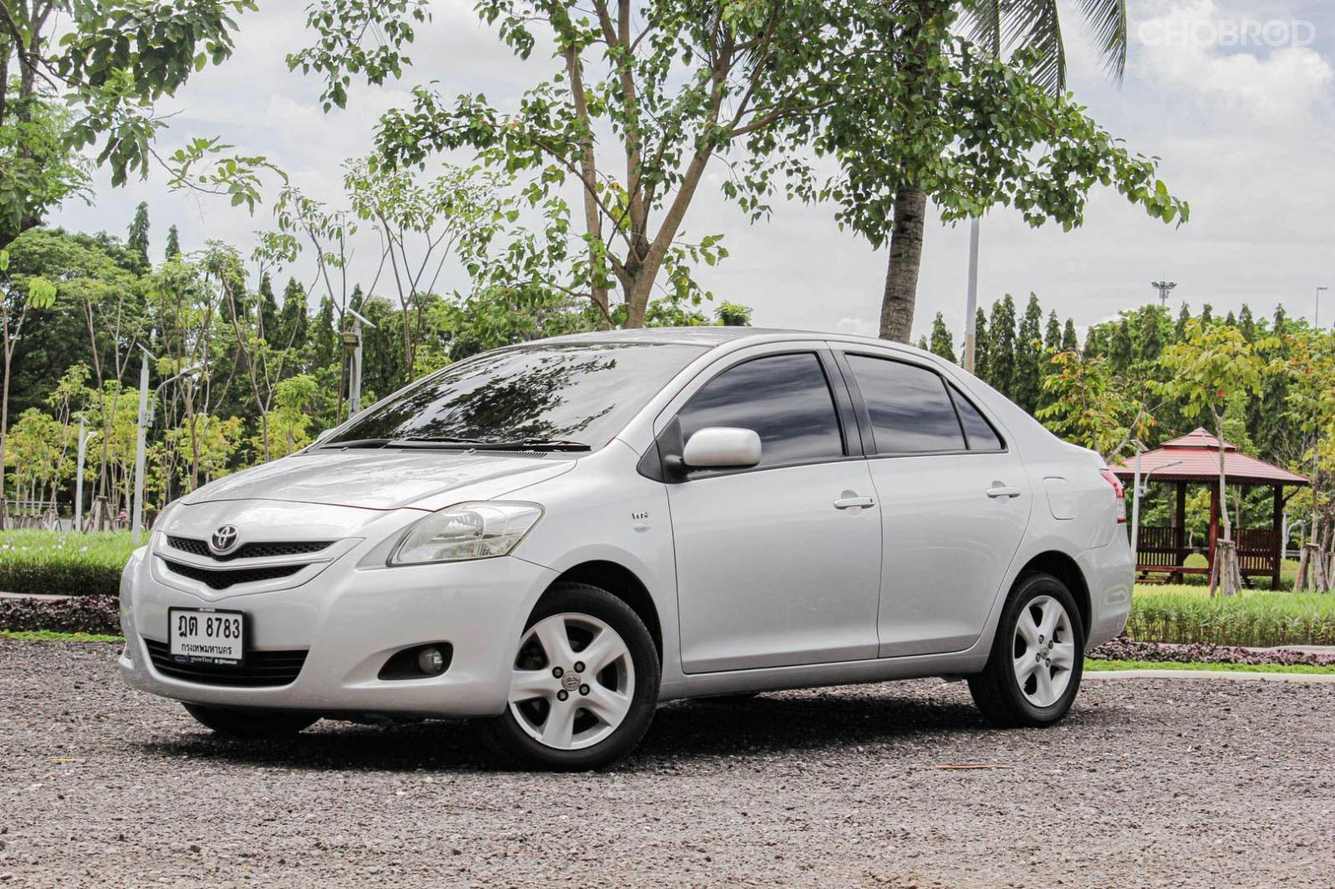license-plate: (167, 606, 252, 672)
